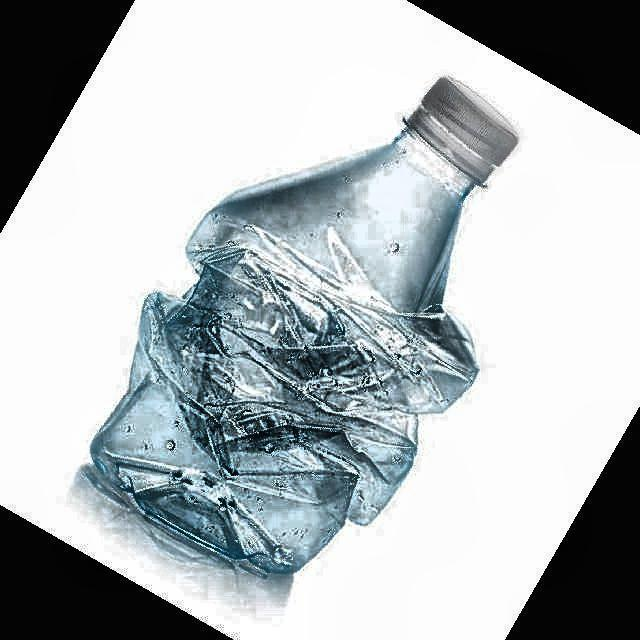plastic: (89, 78, 518, 573)
